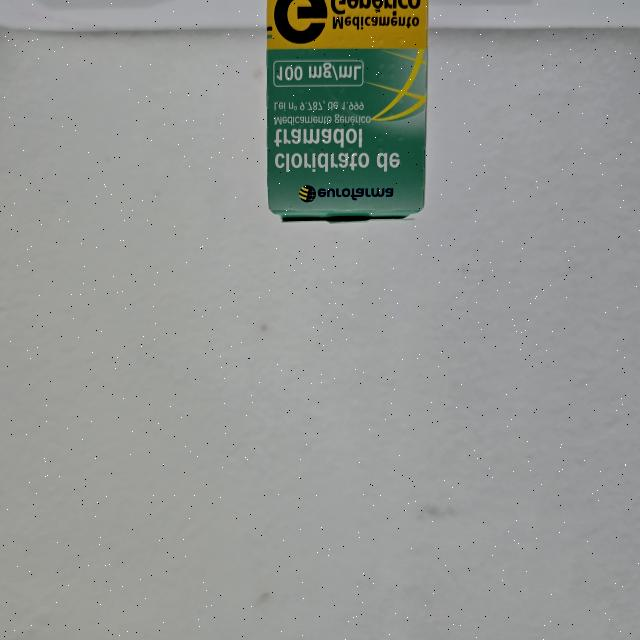tramadol: (260, 0, 433, 229)
